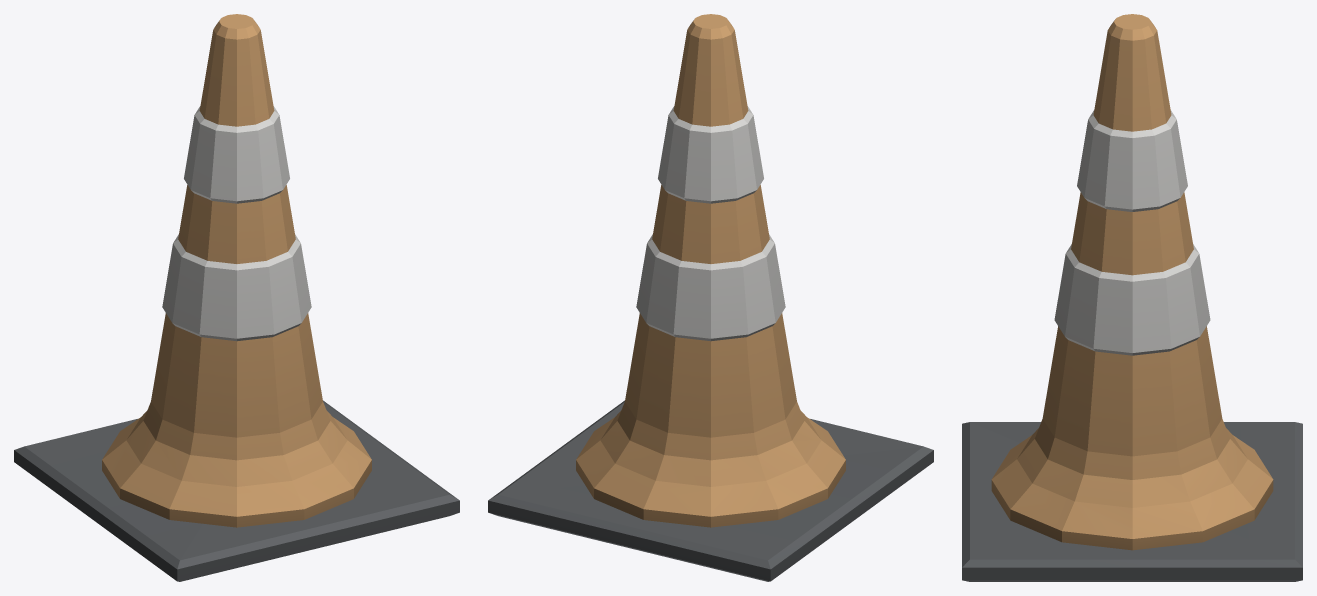
3 views of the same model, side by side, from view 1: azimuth 30°, elevation 25°; view 2: azimuth 150°, elevation 25°; view 3: azimuth 270°, elevation 25° (orthographic). The views are drawn at different scales.
Parts seen in each view (by area): view 1: cone.001; view 2: cone.001; view 3: cone.001.
Part boxes in pixels (x1,y1,x2,y2): cone.001: (14,14,459,581); cone.001: (488,14,933,581); cone.001: (962,14,1302,581).
Size of the model in its own units: 0.44 by 0.7 by 0.44.
